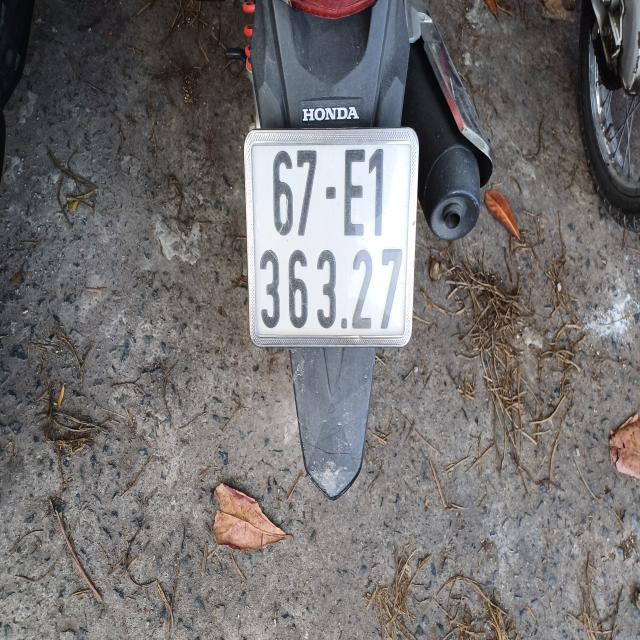1: (369, 149, 385, 238)
2: (351, 248, 373, 329)
3: (259, 252, 281, 329), (317, 247, 336, 331)
6: (271, 148, 295, 238), (288, 250, 311, 329)
7: (296, 146, 321, 238), (381, 244, 403, 331)
E: (342, 147, 367, 235)
